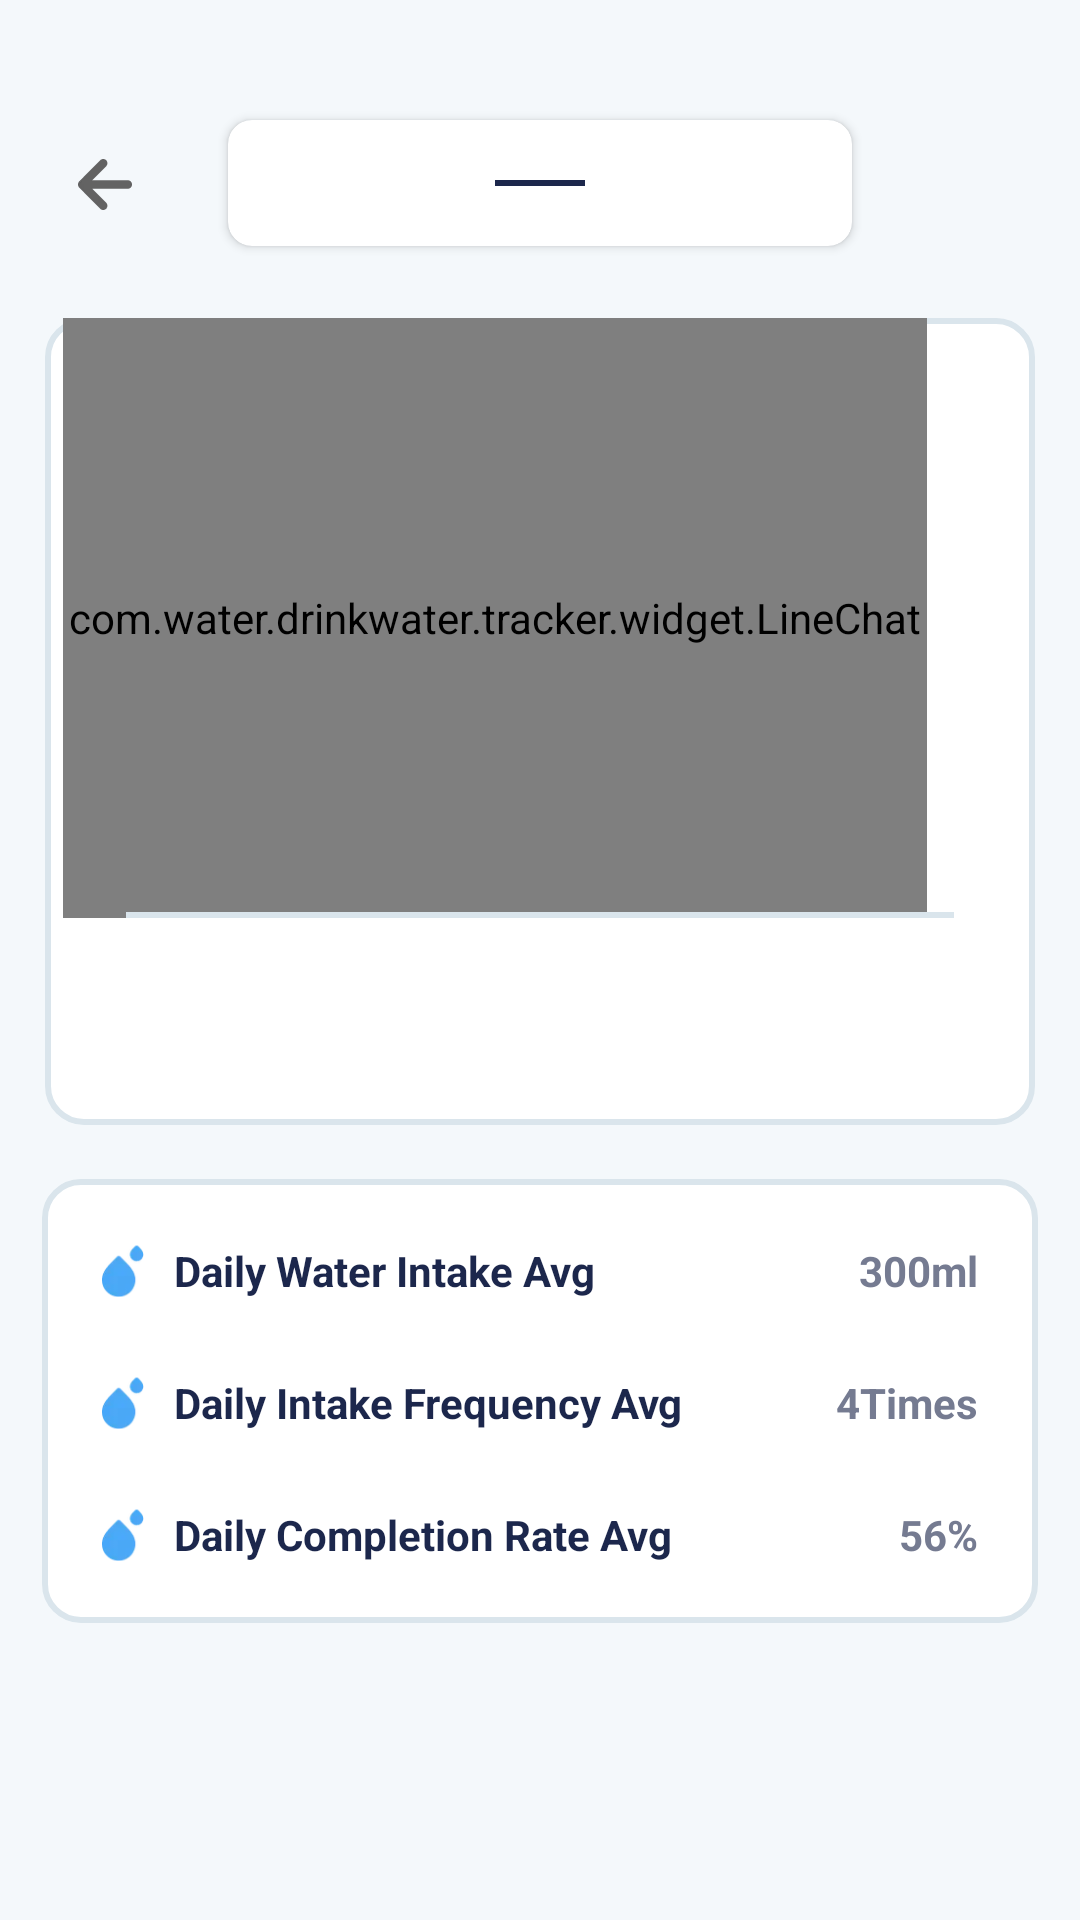

Where to tap for icons on this 1080px x 1920px app screen, as (x,y):
back: (105,184)
